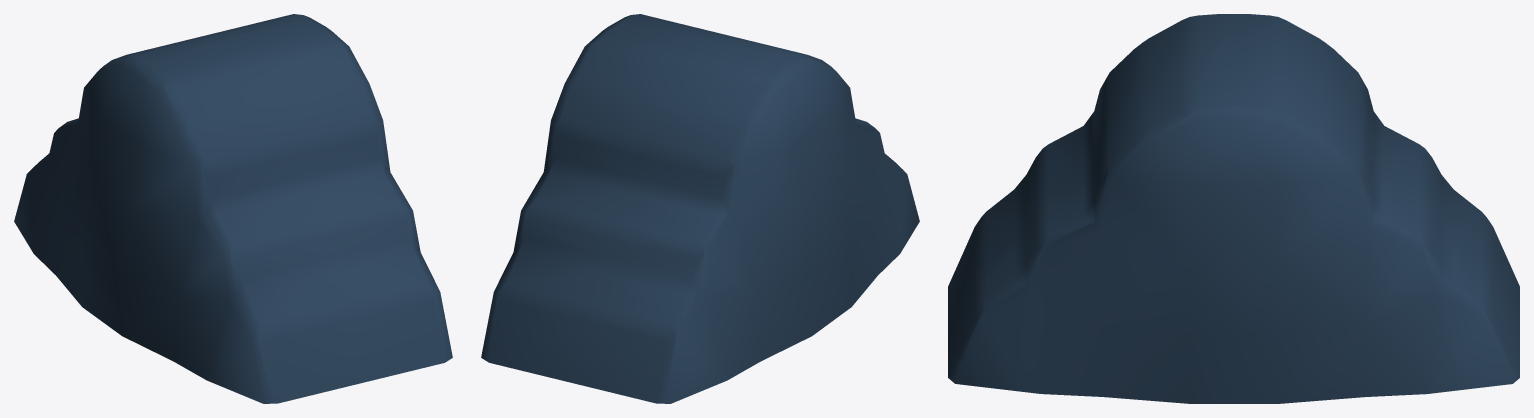
File: Rock02.fbx
The picture shows the model from 3 angles, left to right: view 1: azimuth 30°, elevation 25°; view 2: azimuth 150°, elevation 25°; view 3: azimuth 270°, elevation 25°; orthographic projection. The views are drawn at different scales.
Visible parts, largest first — view 1: Rock001; view 2: Rock001; view 3: Rock001.
Part boxes in pixels (x1=…): Rock001: x1=14, y1=14, x2=452, y2=403; Rock001: x1=481, y1=14, x2=919, y2=403; Rock001: x1=948, y1=14, x2=1519, y2=403.
Size of the model in its own units: 22.46 by 19.91 by 37.84.
1 material, 1 textured.
